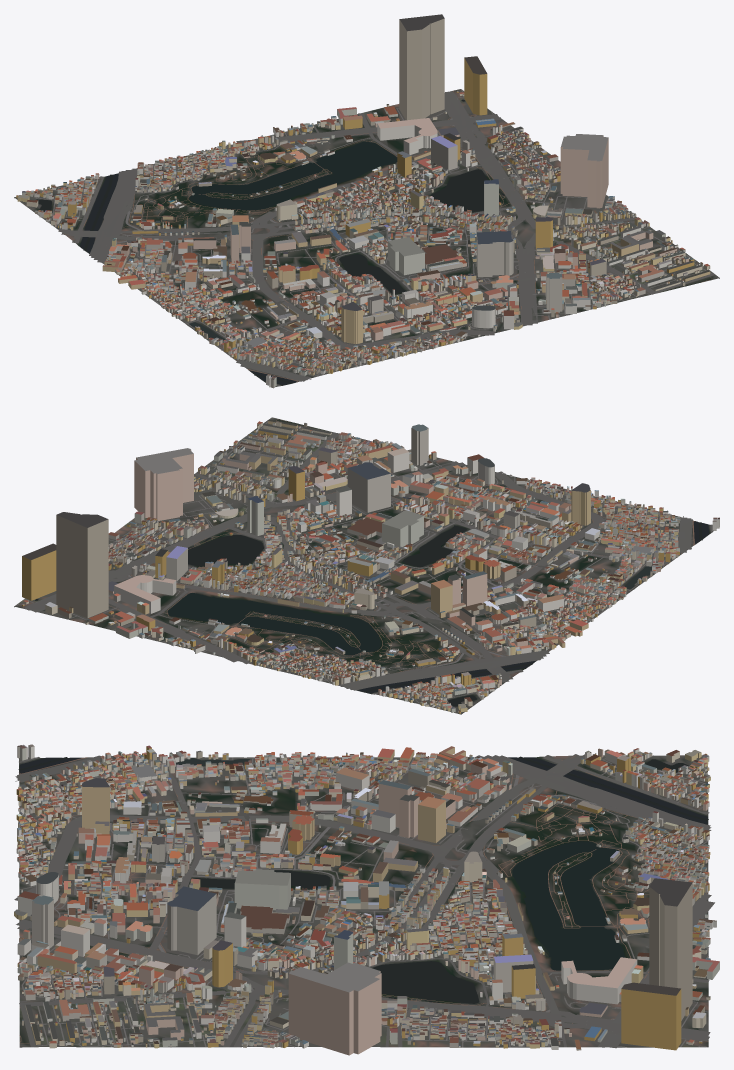
3 views of the same model, one above another, from view 1: azimuth 30°, elevation 25°; view 2: azimuth 150°, elevation 25°; view 3: azimuth 270°, elevation 25° (orthographic). The views are drawn at different scales.
Parts seen in each view (by area): view 1: buildings, ground, roads, water; view 2: buildings, ground, roads, water; view 3: buildings, ground, roads, water.
Part boxes in pixels (bbox=[...]): buildings: bbox=[16, 14, 710, 388]; ground: bbox=[14, 89, 719, 386]; roads: bbox=[34, 89, 715, 385]; water: bbox=[36, 99, 504, 385]; buildings: bbox=[22, 419, 719, 713]; ground: bbox=[14, 417, 713, 714]; roads: bbox=[15, 419, 712, 711]; water: bbox=[35, 521, 708, 706]; buildings: bbox=[14, 744, 719, 1055]; ground: bbox=[19, 755, 708, 1047]; roads: bbox=[14, 754, 714, 1048]; water: bbox=[18, 756, 708, 1003].
Size of the model in its own units: 1465 by 277 by 1436.
